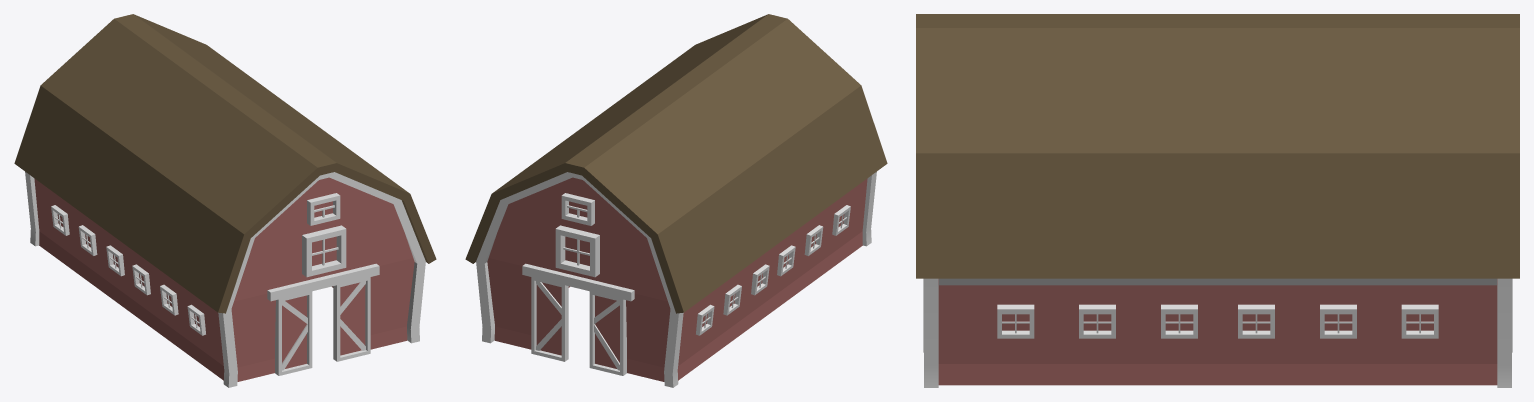
File: Barn_SM.fbx
3 renders of one model, left to right at view 1: azimuth 30°, elevation 25°; view 2: azimuth 150°, elevation 25°; view 3: azimuth 270°, elevation 25°, orthographic. The views are drawn at different scales.
Visible parts, largest first — view 1: Barn_SM; view 2: Barn_SM; view 3: Barn_SM.
Part boxes in pixels (bbox=[...]): Barn_SM: bbox=[14, 14, 436, 387]; Barn_SM: bbox=[465, 14, 887, 387]; Barn_SM: bbox=[916, 14, 1519, 387].
Size of the model in its own units: 680 by 598 by 1097.
